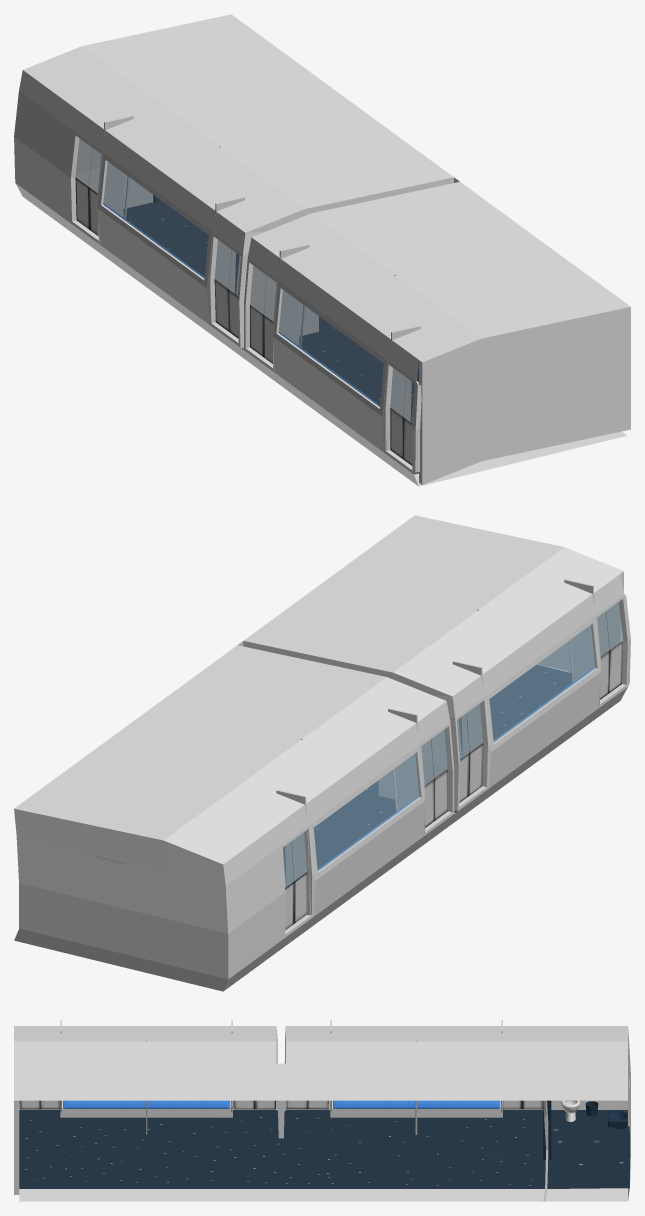
The picture shows the model from 3 angles, top to bottom: view 1: azimuth 30°, elevation 25°; view 2: azimuth 150°, elevation 25°; view 3: azimuth 270°, elevation 25°; orthographic projection. The views are drawn at different scales.
Visible parts, largest first — view 1: Train Inside, Cube.012, Cube.013; view 2: Train Inside, Cube.013, Cube.012; view 3: Train Inside, Cube.012, Cube.013, Cube.002, Cube.009, Cube.007.
Part boxes in pixels (box(x1,y1,x2,y2)): Train Inside: box(14, 14, 630, 486); Cube.012: box(278, 244, 420, 450); Cube.013: box(102, 115, 244, 293); Train Inside: box(14, 515, 630, 991); Cube.013: box(276, 708, 419, 915); Cube.012: box(452, 579, 595, 757); Train Inside: box(14, 1026, 630, 1201); Cube.012: box(60, 1020, 232, 1117); Cube.013: box(330, 1020, 502, 1117); Cube.002: box(543, 1100, 551, 1159); Cube.009: box(608, 1110, 627, 1129); Cube.007: box(561, 1100, 580, 1121).
Bounding box in the file's own units: 728 × 438 × 2331.
Materials: 11 (6 with a texture image).
